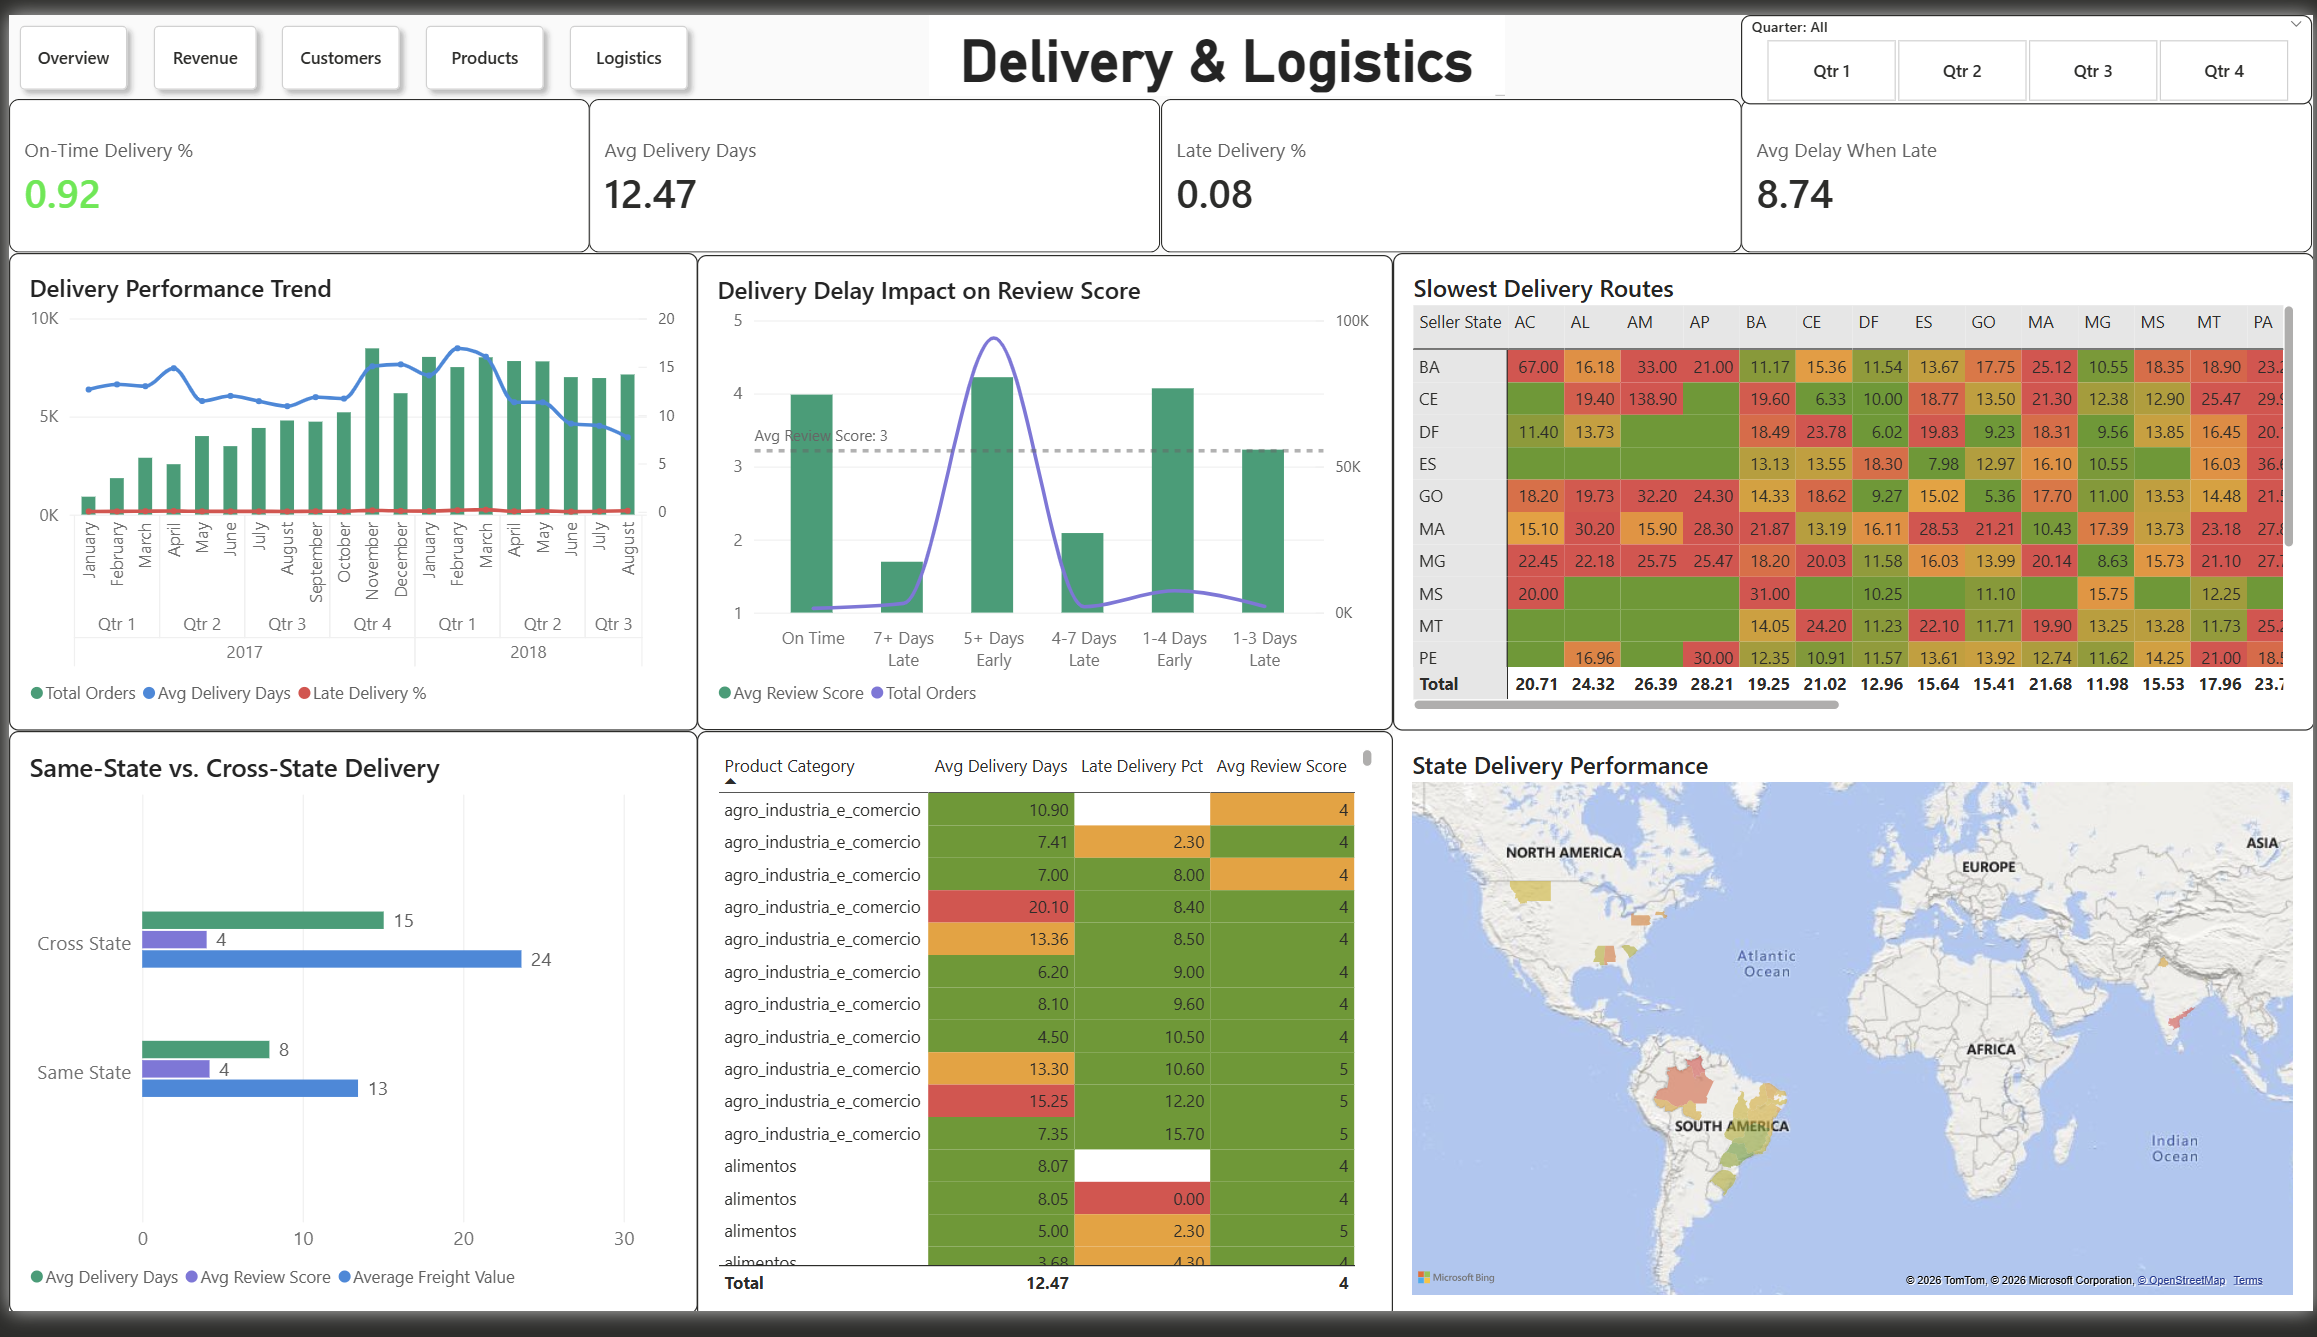

This screenshot's page, from the dashboard's own definition file:
{"tool":"powerbi","page":{"name":"Delivery & Logistics","canvas":[1920,1080],"ordinal":4},"visuals":[{"type":"textbox","title":"Delivery & Logistics","box":[766.9,0,480,67.5],"z":0},{"type":"cardVisual","fields":{"Data":["delivered_orders.Avg Delivery Days"]},"box":[484,70,476,128],"z":1000},{"type":"actionButton","title":"Overview","box":[0,0.5,107.5,71.2],"z":2000},{"type":"cardVisual","fields":{"Data":["delivered_orders.On-Time Delivery %"]},"box":[0,70,484,128],"z":3000},{"type":"cardVisual","fields":{"Data":["delivered_orders.Avg Delay When Late"]},"box":[1444,70,476,128],"z":4000},{"type":"actionButton","title":"Overview","box":[110.9,0.5,103.8,71.2],"z":5000},{"type":"cardVisual","fields":{"Data":["delivered_orders.Late Delivery %"]},"box":[960,70,484,128],"z":6000},{"type":"lineClusteredColumnComboChart","title":"Delivery Performance Trend","fields":{"Y":["delivered_orders.Total Orders"],"Y2":["delivered_orders.Avg Delivery Days","delivered_orders.Late Delivery %"],"Category":["delivered_orders.order_month_name.Variation.Date Hierarchy.Year","delivered_orders.order_month_name.Variation.Date Hierarchy.Quarter","delivered_orders.order_month_name.Variation.Date Hierarchy.Month"]},"box":[0,198,574,398],"z":7000},{"type":"actionButton","title":"Overview","box":[218.1,0.5,116.2,71.2],"z":8000},{"type":"filledMap","title":"State Delivery Performance","fields":{"Category":["delivered_orders.customer_state"]},"box":[1154,596,766,486],"z":9000},{"type":"lineClusteredColumnComboChart","title":"Delivery Delay Impact on Review Score","fields":{"Category":["delivered_orders.delay_bucket"],"Y":["delivered_orders.Avg Review Score"],"Y2":["delivered_orders.Total Orders"]},"box":[574,200,580,396],"z":10000},{"type":"actionButton","title":"Overview","box":[337.8,0.5,116.2,71.2],"z":11000},{"type":"pivotTable","title":"Slowest Delivery Routes","fields":{"Rows":["delivered_orders.seller_state"],"Values":["delivered_orders.Avg Delivery Days"],"Columns":["delivered_orders.customer_state"]},"box":[1154,198,768,398],"z":12000},{"type":"clusteredBarChart","title":"Same-State vs. Cross-State Delivery","fields":{"Category":["delivered_orders.delivery_type"],"Y":["delivered_orders.Avg Delivery Days","delivered_orders.Avg Review Score","Avg(delivered_orders.freight_value)"]},"box":[0,596,574,486],"z":13000},{"type":"actionButton","title":"Overview","box":[457.5,0.5,116.2,71.2],"z":14000},{"type":"tableEx","fields":{"Values":["delivered_orders.product_category","delivered_orders.Avg Delivery Days","seller_tiers.late_delivery_pct","delivered_orders.Avg Review Score"]},"box":[574,596,580,490],"z":15000},{"type":"slicer","fields":{"Values":["delivered_orders.order_approved_at.Variation.Date Hierarchy.Quarter"]},"box":[1443.8,0,476.2,74.6],"z":16000}]}

Visuals, with their boxes in screenshot pixels (x1, y1, x2, y2), scaled from the page's 1920x1080 canvas onto the 2317x1337 screenshot:
"Delivery & Logistics" textbox: 925/0/1505/84
cardVisual - delivered_orders.Avg Delivery Days: 584/87/1158/245
"Overview" actionButton: 0/1/130/89
cardVisual - delivered_orders.On-Time Delivery %: 0/87/584/245
cardVisual - delivered_orders.Avg Delay When Late: 1743/87/2316/245
"Overview" actionButton: 134/1/259/89
cardVisual - delivered_orders.Late Delivery %: 1158/87/1743/245
"Delivery Performance Trend" lineClusteredColumnComboChart: 0/245/693/738
"Overview" actionButton: 263/1/403/89
"State Delivery Performance" filledMap: 1393/738/2316/1336
"Delivery Delay Impact on Review Score" lineClusteredColumnComboChart: 693/248/1393/738
"Overview" actionButton: 408/1/548/89
"Slowest Delivery Routes" pivotTable: 1393/245/2316/738
"Same-State vs. Cross-State Delivery" clusteredBarChart: 0/738/693/1336
"Overview" actionButton: 552/1/692/89
tableEx - delivered_orders.product_category x delivered_orders.Avg Delivery Days: 693/738/1393/1336
slicer - delivered_orders.order_approved_at.Variation.Date Hierarchy.Quarter: 1742/0/2316/92
